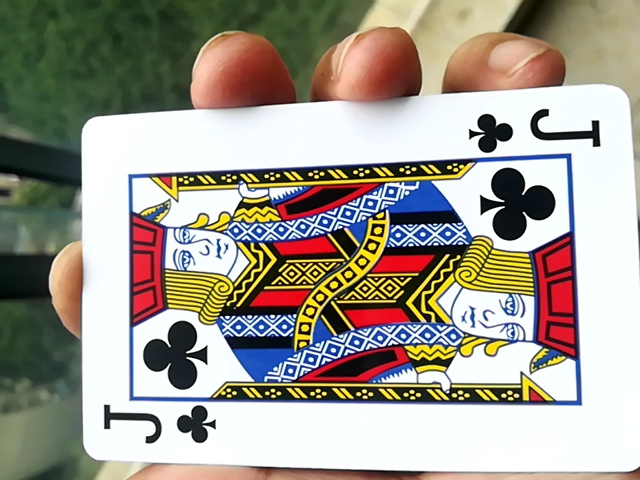mh j: (61, 99, 629, 475)
